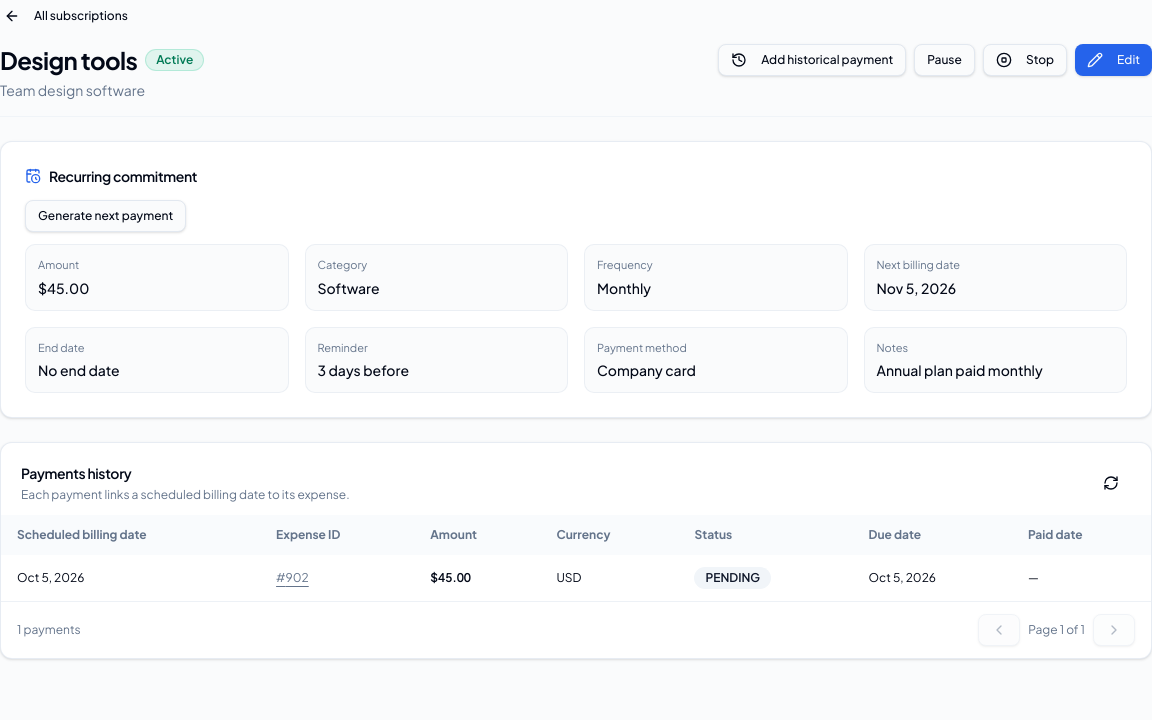
Scenario: add historical payment on subscription details › shows backend errors in an alert, keeps the modal open, and allows retry
Check: the heading "Design tools" is shown, box 0,44 -> 137,76
Click the button "Add historical payment": (812, 60) 718,44 -> 906,76
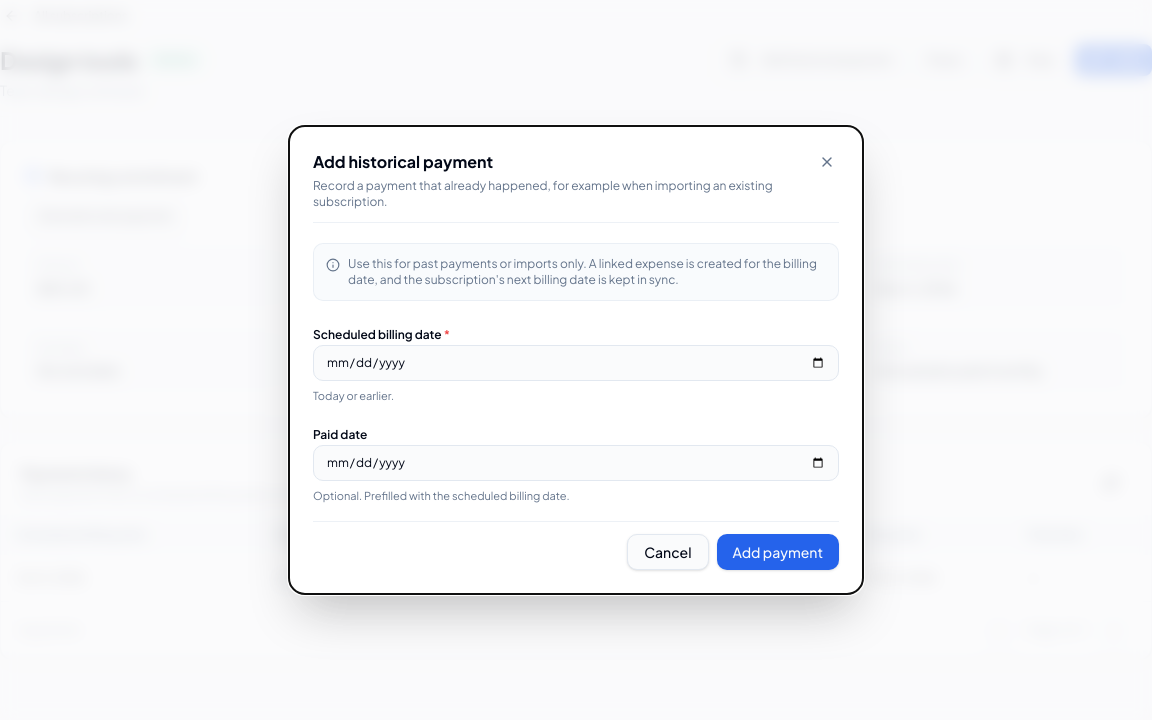
In the date field labelled "Scheduled billing date*": (576, 363) 313,345 -> 839,381, type "2026-09-05"
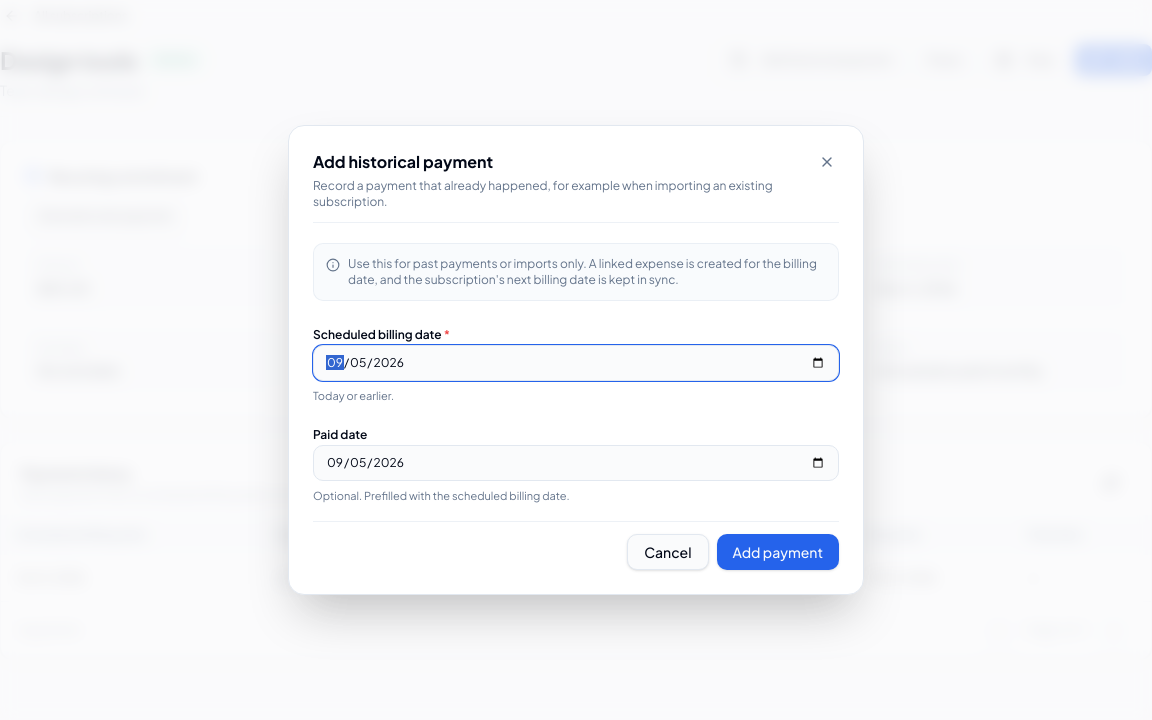
Click the button "Add payment": (778, 552) 716,534 -> 839,570
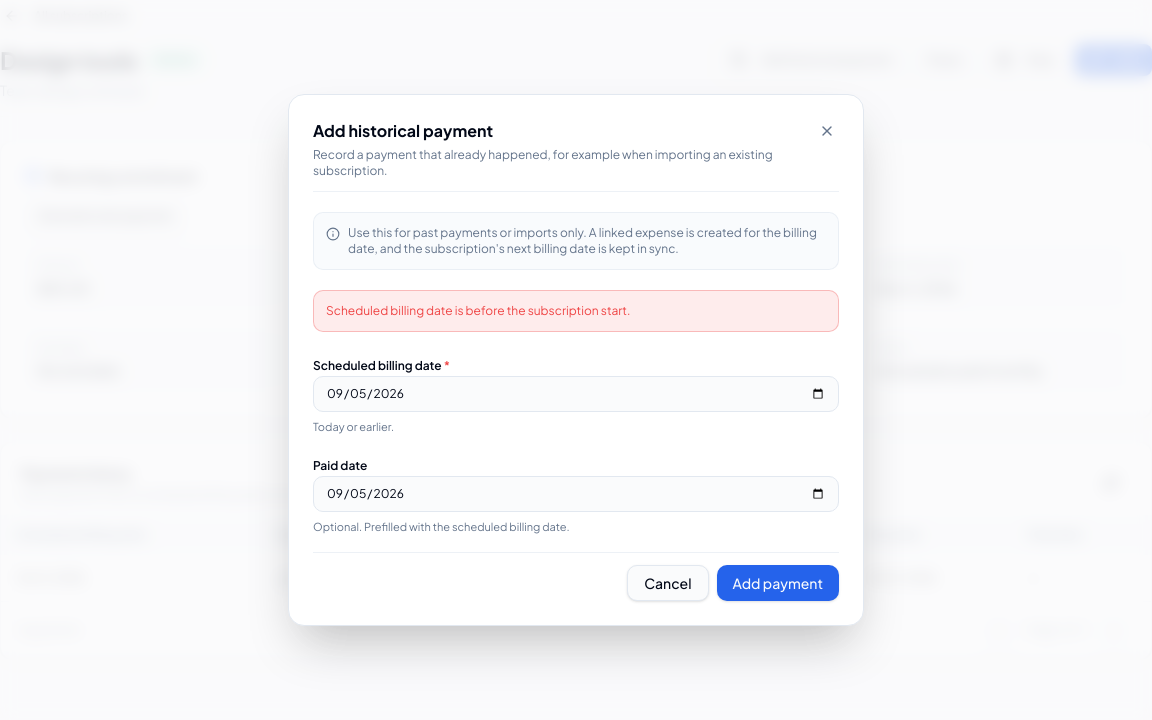
Check: the button "Add payment" is enabled
Check: the message reads "Scheduled billing date is before the subscription start.", box 326,303 -> 630,318
Click the button "Add payment": (778, 583) 716,565 -> 839,601
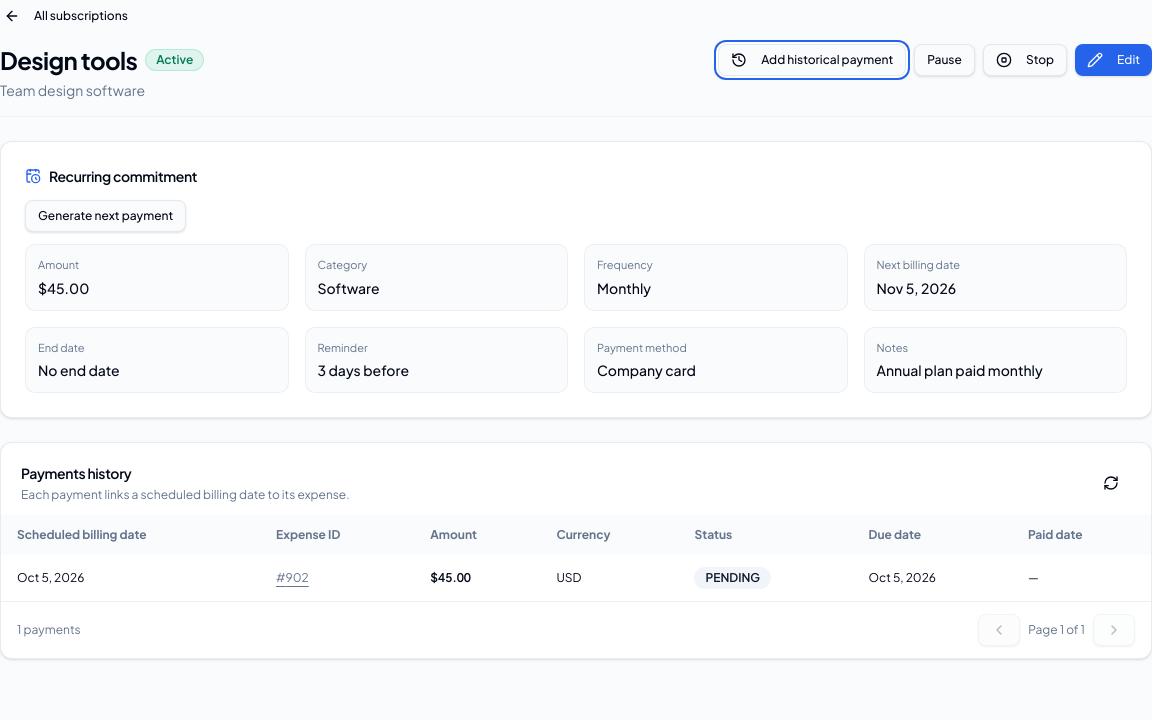
Check: the dialog is gone
